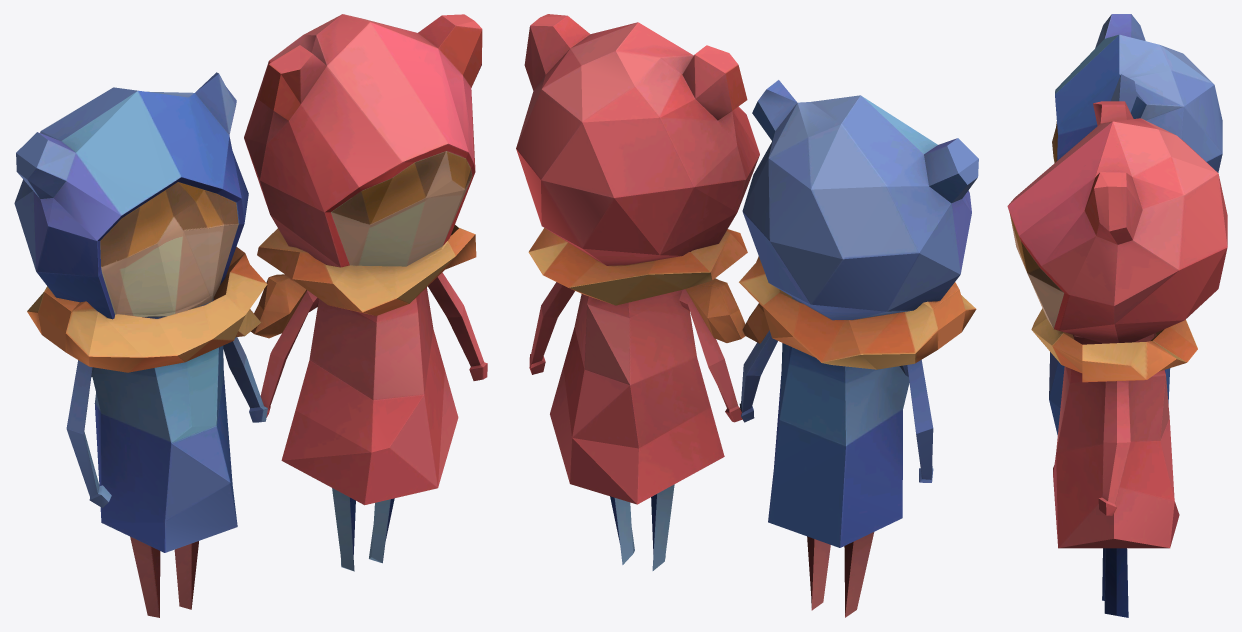
Rendered from lowP.fbx.
3 views of the same model, side by side, from view 1: azimuth 30°, elevation 25°; view 2: azimuth 150°, elevation 25°; view 3: azimuth 270°, elevation 25° (orthographic). The views are drawn at different scales.
Parts seen in each view (by area): view 1: root; view 2: root; view 3: root.
Part boxes in pixels (box(x1,y1,x2,y2)): root: box(14, 14, 487, 617); root: box(516, 14, 978, 617); root: box(1007, 14, 1227, 617).
Bounding box in the file's own units: 0.449 × 0.512 × 0.2069.
1 material, 1 textured.
